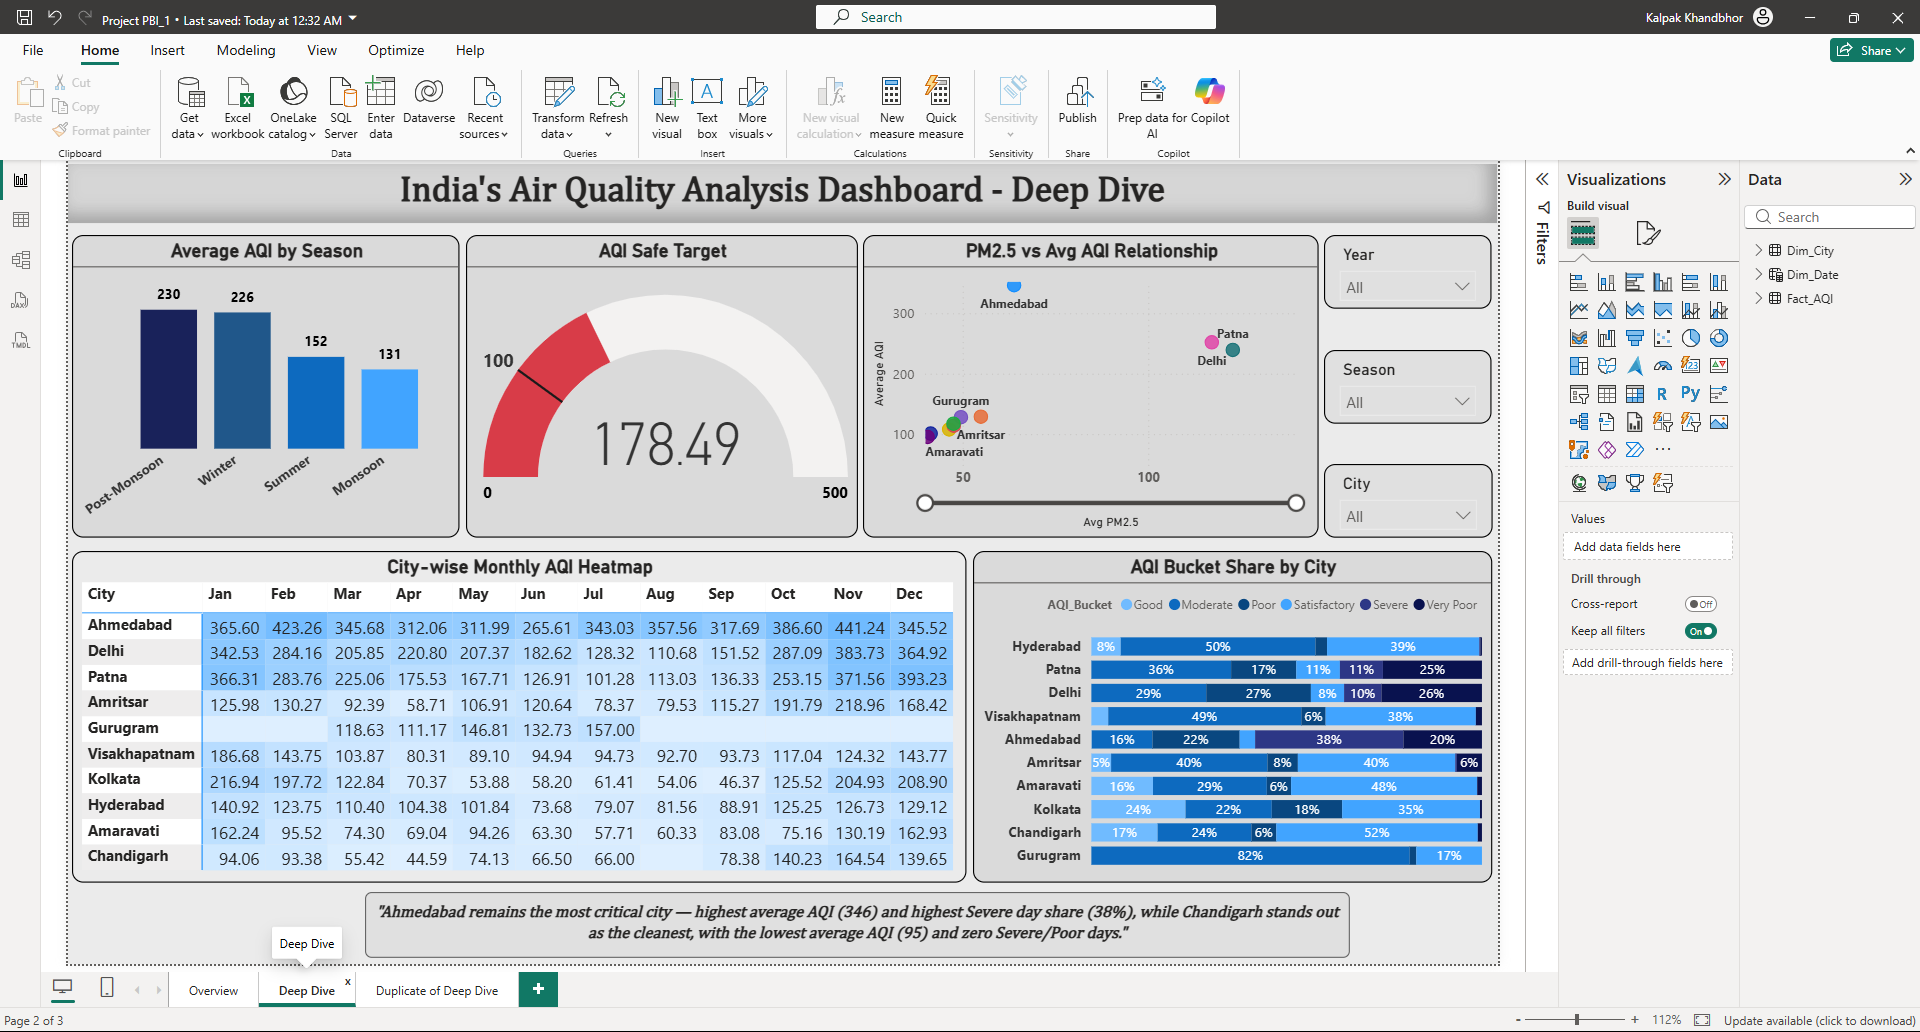

The page's visual inventory and layout, read from the dashboard file:
{"tool":"powerbi","page":{"name":"Deep Dive","canvas":[1280,720],"ordinal":1},"visuals":[{"type":"clusteredColumnChart","fields":{"Category":["Dim_Date.Season"],"Y":["Fact_AQI.Average AQI"]},"box":[3.6,67.2,347.5,271.3],"z":0},{"type":"pivotTable","title":"City-wise Monthly AQI Heatmap","fields":{"Rows":["Fact_AQI.City"],"Values":["Fact_AQI.Average AQI"],"Columns":["Dim_Date.Month"]},"box":[3.6,350.1,800.6,297.3],"z":1000},{"type":"gauge","title":"AQI Safe Target","fields":{"Y":["Fact_AQI.Average AQI"],"MaxValue":["Fact_AQI.Max"],"MinValue":["Fact_AQI.Min"],"TargetValue":["Fact_AQI.Target"]},"box":[356.4,67.2,351,271.3],"z":2000},{"type":"textbox","box":[0,3.6,1279.7,52.8],"z":3000},{"type":"scatterChart","title":"PM2.5 vs Avg AQI Relationship","fields":{"X":["Fact_AQI.Avg PM2.5"],"Y":["Fact_AQI.Average AQI"],"Series":["Dim_City.City"]},"box":[711.9,67.2,408.4,271.3],"z":4000},{"type":"slicer","fields":{"Values":["Dim_City.City"]},"box":[1124.8,272.2,151.3,66.3],"z":5000},{"type":"slicer","fields":{"Values":["Dim_Date.Year"]},"box":[1124.8,67.2,150.4,66.3],"z":6000},{"type":"slicer","fields":{"Values":["Dim_Date.Season"]},"box":[1124.8,170.1,150.4,66.3],"z":7000},{"type":"hundredPercentStackedBarChart","title":"AQI Bucket Share by City","fields":{"Category":["Dim_City.City"],"Y":["Fact_AQI.Total AQI Records"],"Series":["Fact_AQI.AQI_Bucket"]},"box":[810.4,350.1,464.8,297.3],"z":8000},{"type":"textbox","box":[266,655.5,882.1,59.1],"z":9000}]}

Visuals, with their boxes on the page's 1280x720 design canvas (x1, y1, x2, y2). These are canvas units, not pixel positions in the 1920x1032 screenshot, which may show the page scaled, cropped or inside an application window:
clusteredColumnChart - Dim_Date.Season x Fact_AQI.Average AQI: 4 67 351 338
"City-wise Monthly AQI Heatmap" pivotTable: 4 350 804 647
"AQI Safe Target" gauge: 356 67 707 338
textbox: 0 4 1280 56
"PM2.5 vs Avg AQI Relationship" scatterChart: 712 67 1120 338
slicer - Dim_City.City: 1125 272 1276 338
slicer - Dim_Date.Year: 1125 67 1275 134
slicer - Dim_Date.Season: 1125 170 1275 236
"AQI Bucket Share by City" hundredPercentStackedBarChart: 810 350 1275 647
textbox: 266 656 1148 715
